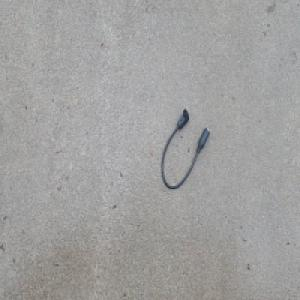Wire: (160, 108, 210, 191)
